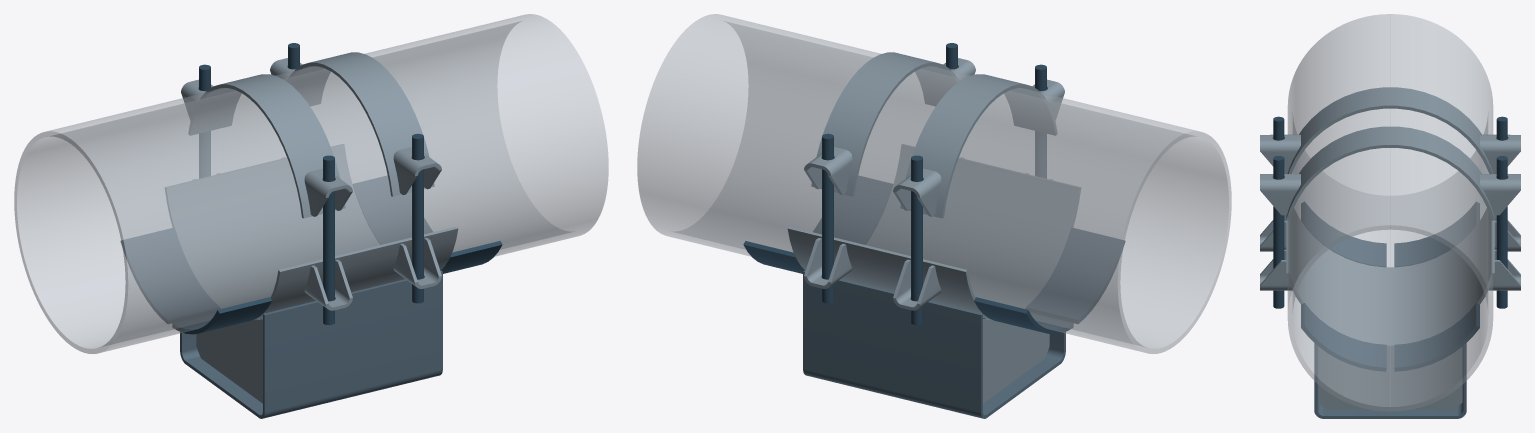
The model's file is TS-671.00.00-01-opora-dn377-H150.glb.
The picture shows the model from 3 angles, left to right: view 1: azimuth 30°, elevation 25°; view 2: azimuth 150°, elevation 25°; view 3: azimuth 270°, elevation 25°; orthographic projection. The views are drawn at different scales.
Parts seen in each view (by area): view 1: truba, podushka_0, skoba_1, bugel_podushka_-1_0, bugel_podushka_1_0, upor_-1_1, rebro_2, upor_1_1, shpilka_-1_-1, shpilka_1_-1, upor_-1_-1, bugel_ushko_-1_2 (+5 smaller); view 2: truba, podushka_0, skoba_1, bugel_podushka_-1_0, bugel_podushka_1_0, upor_-1_-1, rebro_2, upor_1_-1, shpilka_-1_1, shpilka_1_1, upor_-1_1, bugel_ushko_-1_1 (+5 smaller); view 3: truba, podushka_0, rebro_4, bugel_podushka_1_0, bugel_podushka_-1_0, upor_1_1, upor_1_-1, skoba_1, upor_-1_1, upor_-1_-1, bugel_ushko_1_1, bugel_ushko_1_2 (+10 smaller).
Boxes of the visible parts, x1=… form: truba: x1=14, y1=14, x2=608, y2=353; podushka_0: x1=165, y1=144, x2=458, y2=320; skoba_1: x1=180, y1=270, x2=442, y2=418; bugel_podushka_-1_0: x1=188, y1=74, x2=345, y2=218; bugel_podushka_1_0: x1=287, y1=52, x2=434, y2=196; upor_-1_1: x1=120, y1=227, x2=219, y2=323; rebro_2: x1=196, y1=318, x2=262, y2=403; upor_1_1: x1=353, y1=176, x2=432, y2=244; shpilka_-1_-1: x1=323, y1=155, x2=334, y2=324; shpilka_1_-1: x1=412, y1=133, x2=423, y2=303; upor_-1_-1: x1=172, y1=297, x2=271, y2=334; bugel_ushko_-1_2: x1=304, y1=168, x2=352, y2=216; truba: x1=637, y1=14, x2=1231, y2=353; podushka_0: x1=787, y1=144, x2=1080, y2=320; skoba_1: x1=803, y1=270, x2=1065, y2=418; bugel_podushka_-1_0: x1=900, y1=74, x2=1057, y2=218; bugel_podushka_1_0: x1=811, y1=52, x2=958, y2=196; upor_-1_-1: x1=1026, y1=227, x2=1125, y2=323; rebro_2: x1=983, y1=318, x2=1049, y2=403; upor_1_-1: x1=813, y1=176, x2=892, y2=244; shpilka_-1_1: x1=911, y1=155, x2=922, y2=324; shpilka_1_1: x1=822, y1=133, x2=833, y2=303; upor_-1_1: x1=974, y1=297, x2=1073, y2=334; bugel_ushko_-1_1: x1=893, y1=168, x2=941, y2=216; truba: x1=1287, y1=14, x2=1493, y2=411; podushka_0: x1=1286, y1=209, x2=1494, y2=348; rebro_4: x1=1318, y1=346, x2=1462, y2=409; bugel_podushka_1_0: x1=1286, y1=126, x2=1494, y2=220; bugel_podushka_-1_0: x1=1287, y1=87, x2=1493, y2=173; upor_1_1: x1=1394, y1=303, x2=1479, y2=371; upor_1_-1: x1=1301, y1=303, x2=1386, y2=371; skoba_1: x1=1314, y1=343, x2=1466, y2=418; upor_-1_1: x1=1394, y1=202, x2=1479, y2=267; upor_-1_-1: x1=1301, y1=202, x2=1386, y2=267; bugel_ushko_1_1: x1=1480, y1=174, x2=1520, y2=215; bugel_ushko_1_2: x1=1260, y1=174, x2=1300, y2=215.
Size of the model in its own units: 917 by 534 by 479.
